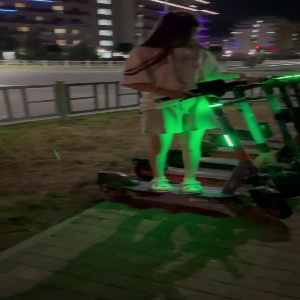human on a scooter: (96, 11, 300, 222)
